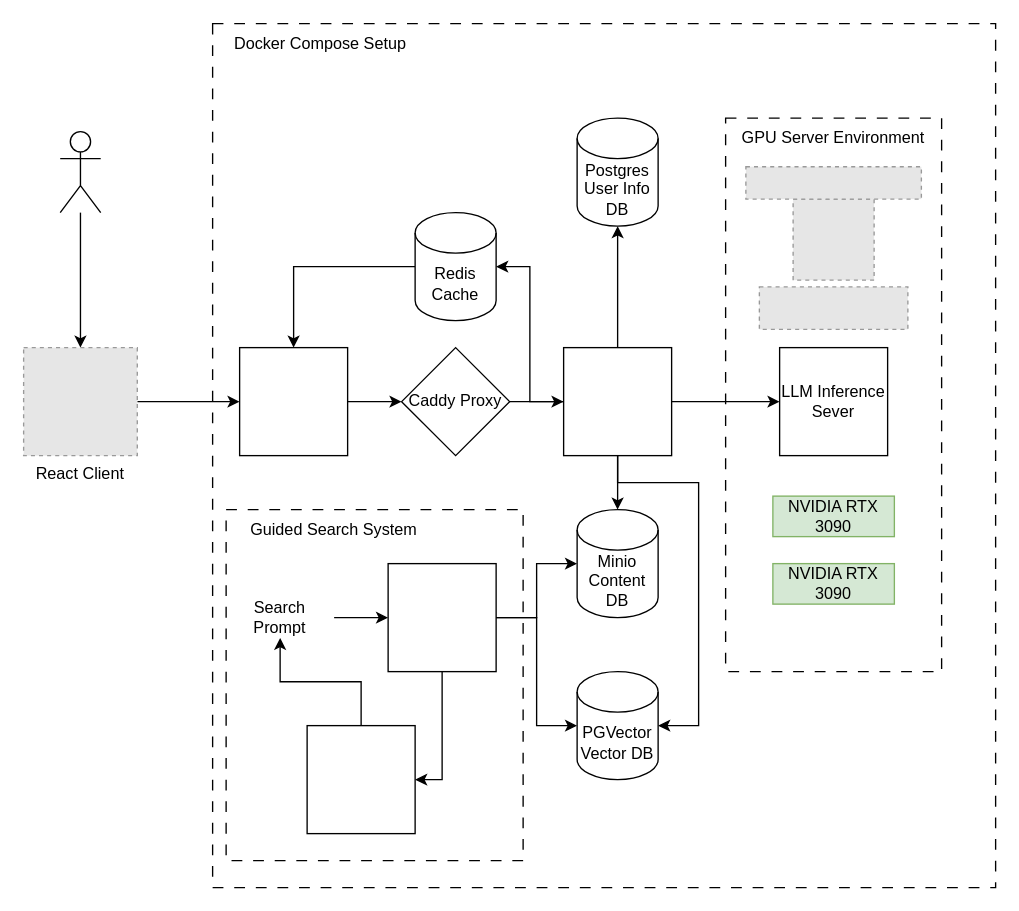
Some shapes in this 1019 by 911 pixel diagram are drawn without their labels. Grey dashed boxes stand in for pictures. The centre of each missing label's shape, as x and y in pixels:
"FastAPI Server" goes at [617,401].
"NextJs Server" goes at [293,401].
"Search Tool" goes at [441,617].
"Search Update Tool" goes at [360,779].
